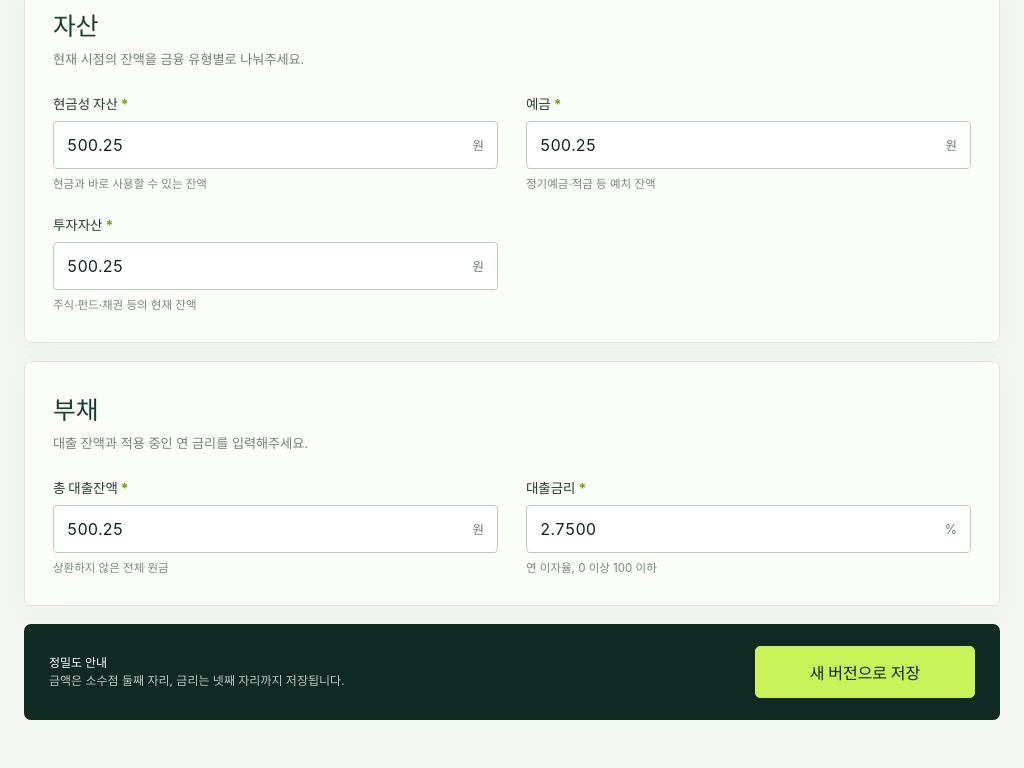
FinancialProfilePage › shows a refresh action for a version conflict
The width and height of the screenshot is (1024, 768).
(page scrolled)
Expected: the field showing "2.7500" is shown, [527,506,932,552]
Click the button "새 버전으로 저장": (865, 672) [755,646,975,698]
(page scrolled)
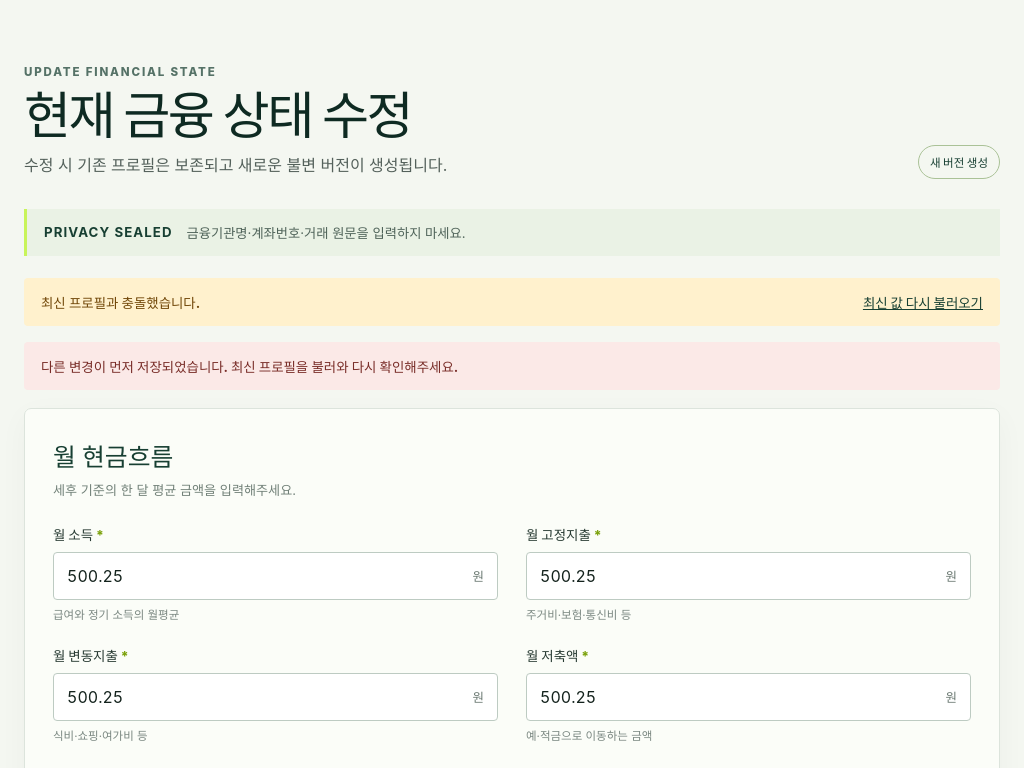
Now the button "최신 값 다시 불러오기" is shown, box [863,292,983,312]
